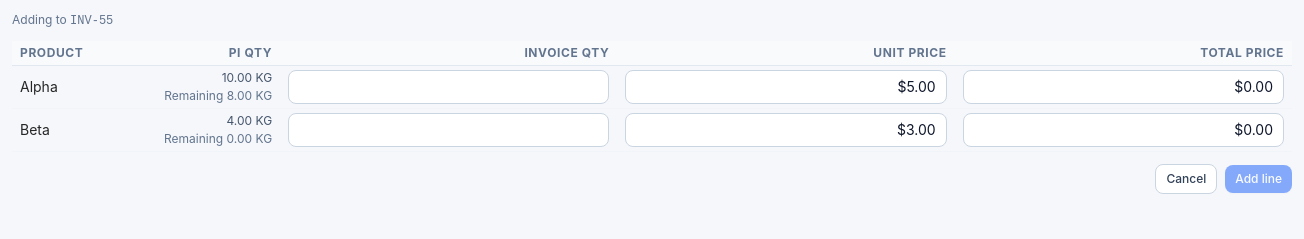
InvoiceEditor — add-line mode › reports the rows that landed when a later row is refused
Expected: the text "Alpha" is shown, [12,66,117,108]
Type "2" into the number field named "Invoice qty for Alpha" at {"x": 449, "y": 87}, box [288,70,610,104]
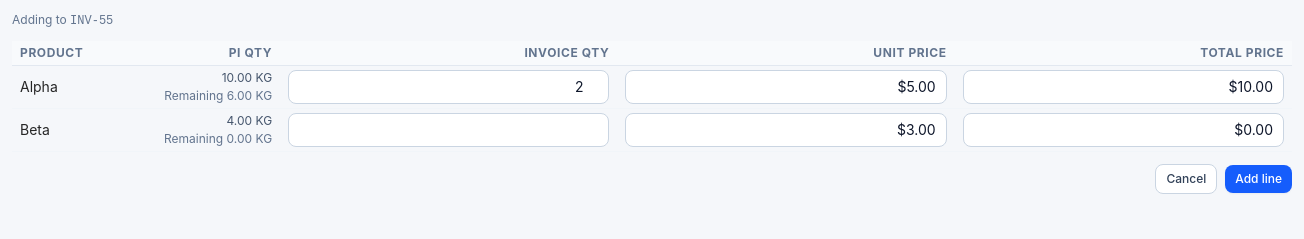
Type "100" into the number field named "Invoice qty for Beta" at {"x": 449, "y": 130}, box [288,113,610,147]
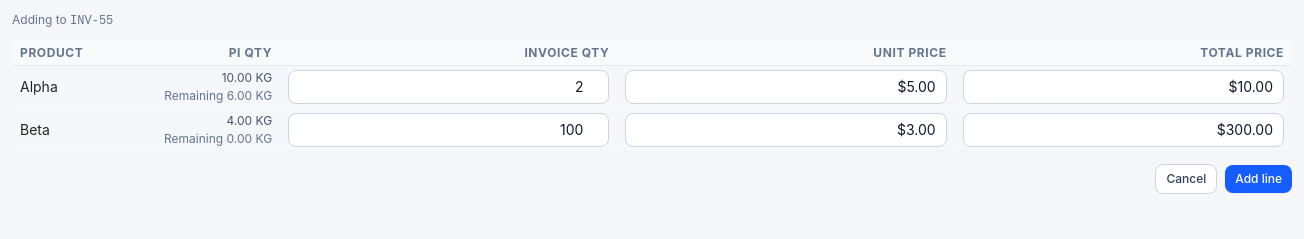
Click the button "Add line" at {"x": 1259, "y": 179}, box [1225,165,1292,193]
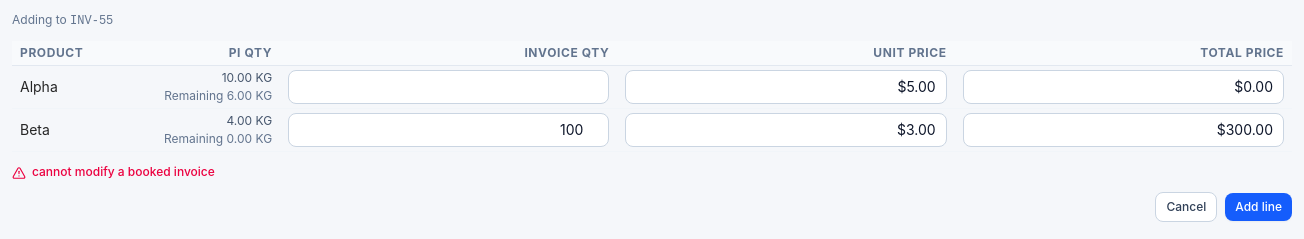
Expected: the text "cannot modify a booked invoice" is shown, [12,164,215,180]
